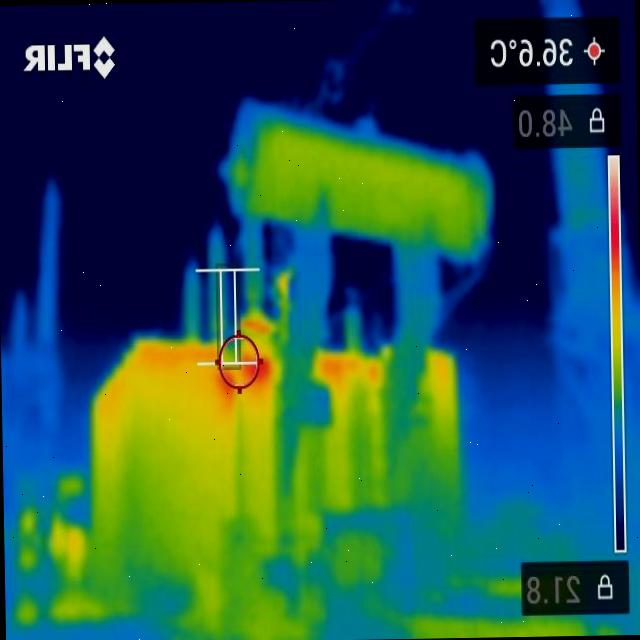loose_joint_red: (236, 284, 277, 336)
